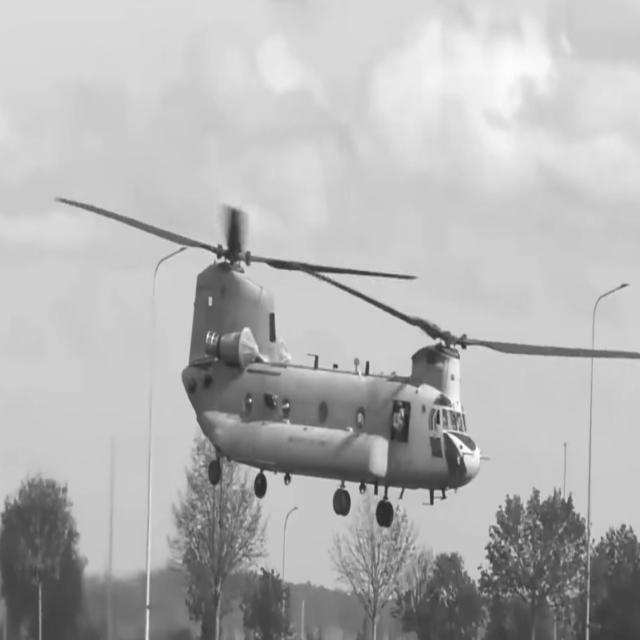Helicopter: (57, 198, 640, 527)
